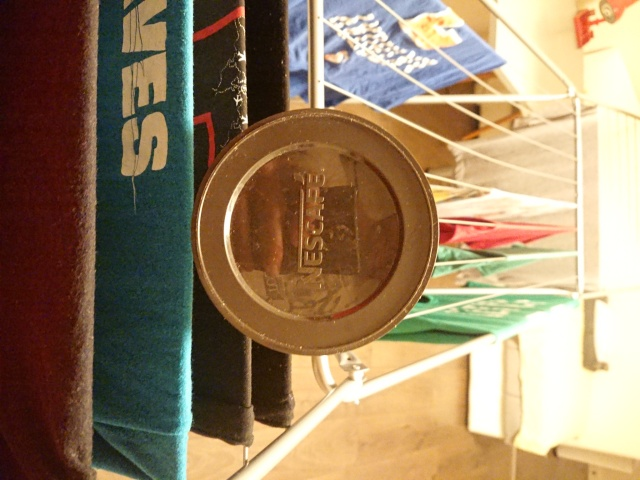Nescafe Classic 225g: (185, 105, 444, 360)
